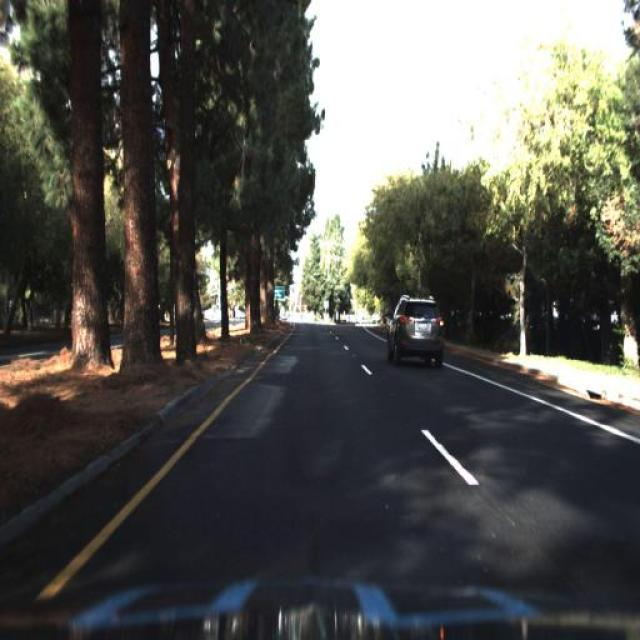car: (382, 291, 447, 368)
